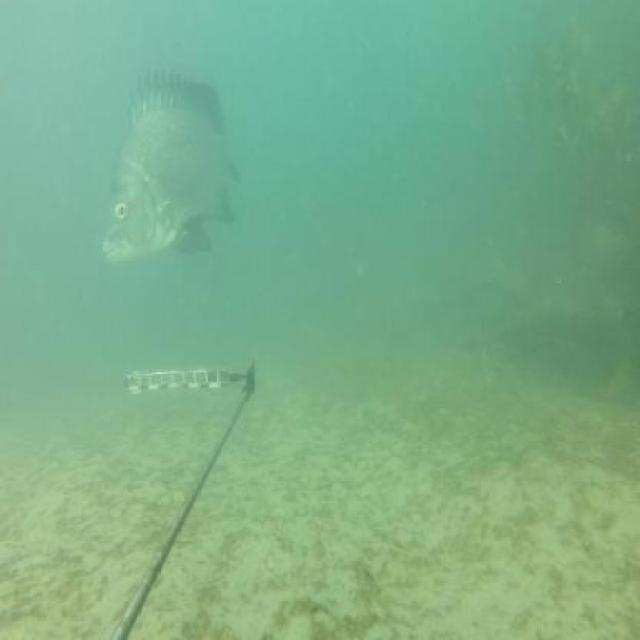acanthopagrus_palmaris: (100, 68, 242, 267)
